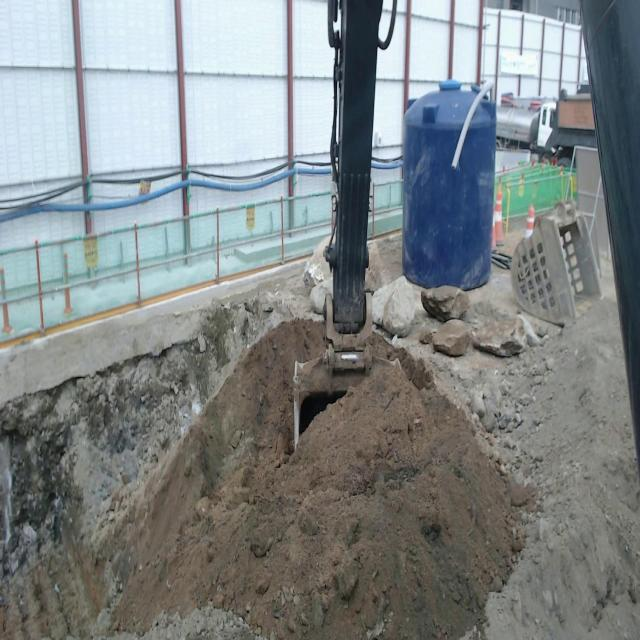stone: (471, 315, 534, 357), (372, 276, 414, 337), (304, 236, 332, 313), (422, 286, 469, 322), (432, 319, 471, 356), (365, 242, 386, 292)
white-sand: (0, 270, 640, 639)
